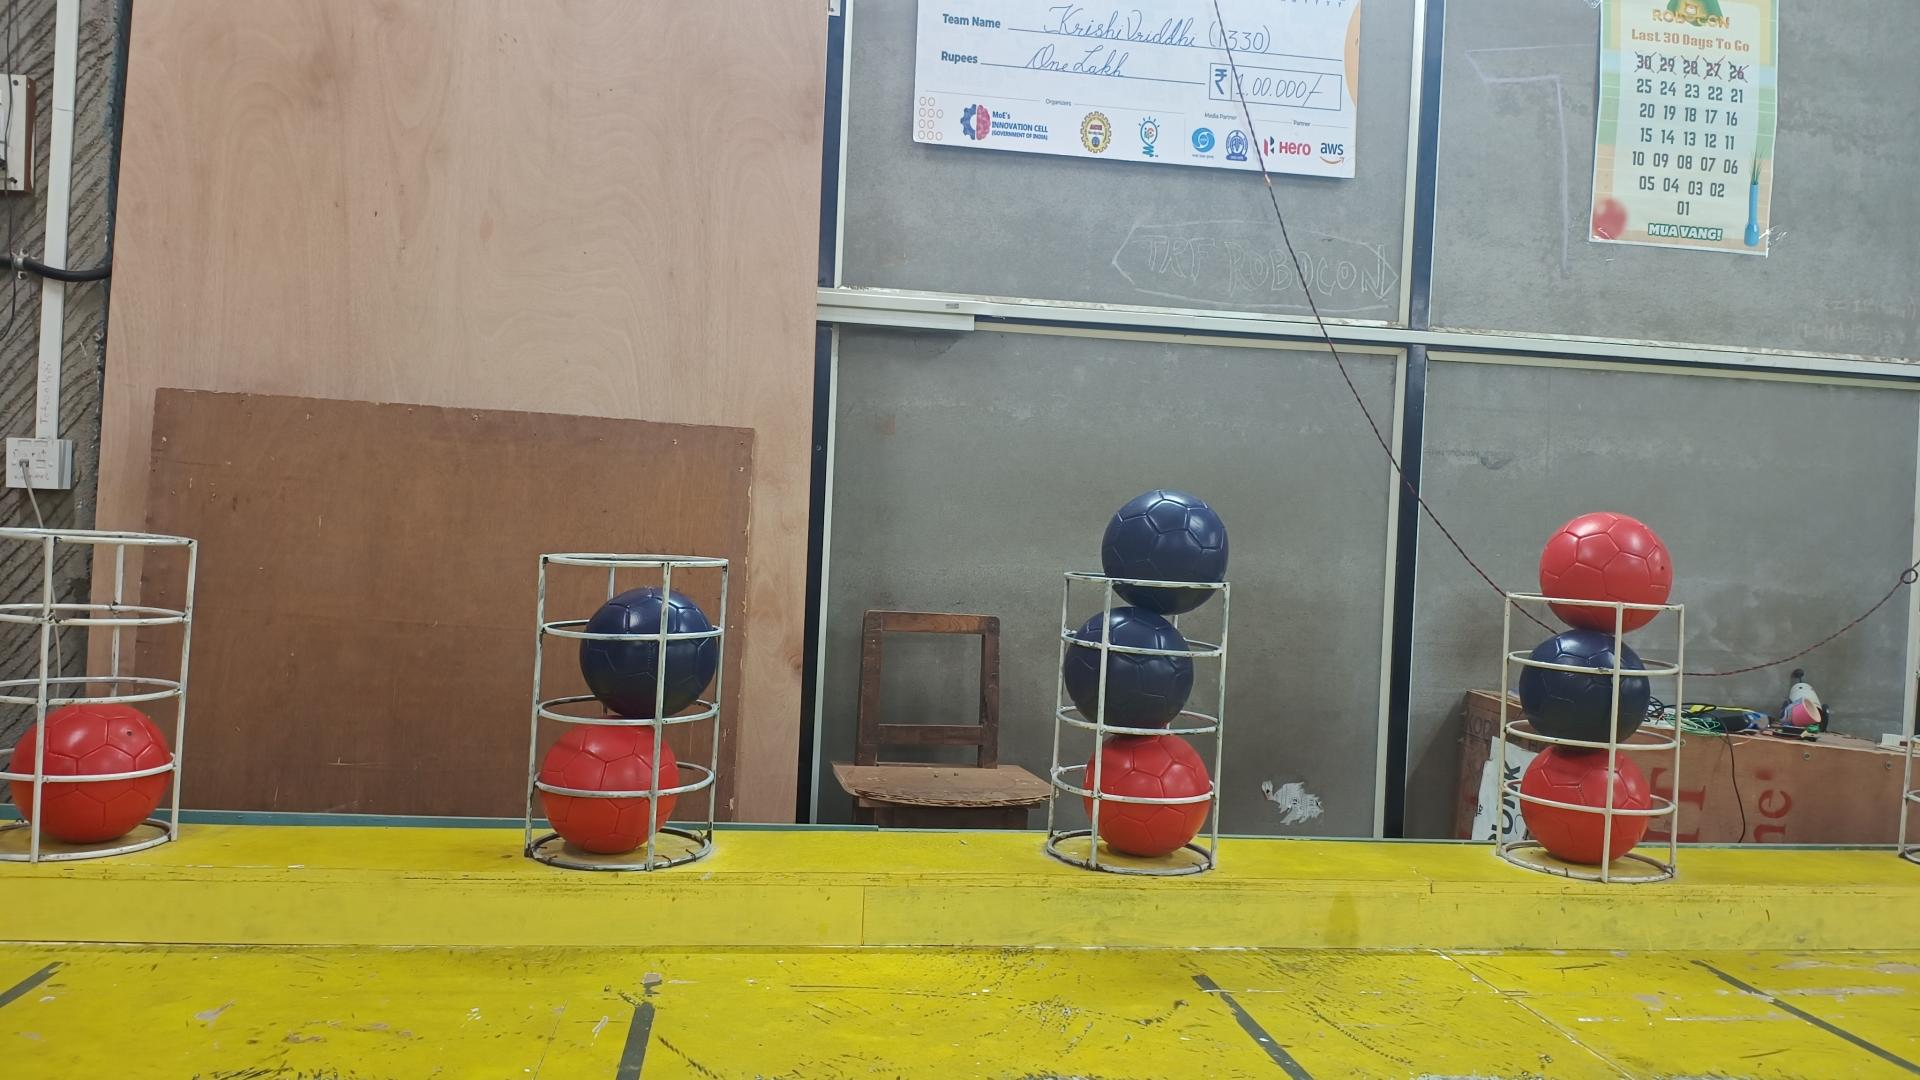dhoka: (579, 588, 719, 723), (1516, 624, 1652, 748), (1065, 607, 1196, 731), (1101, 491, 1229, 615)
laale: (7, 705, 171, 848), (539, 725, 683, 857), (1535, 512, 1671, 636), (1519, 741, 1654, 864), (1081, 732, 1212, 856)
